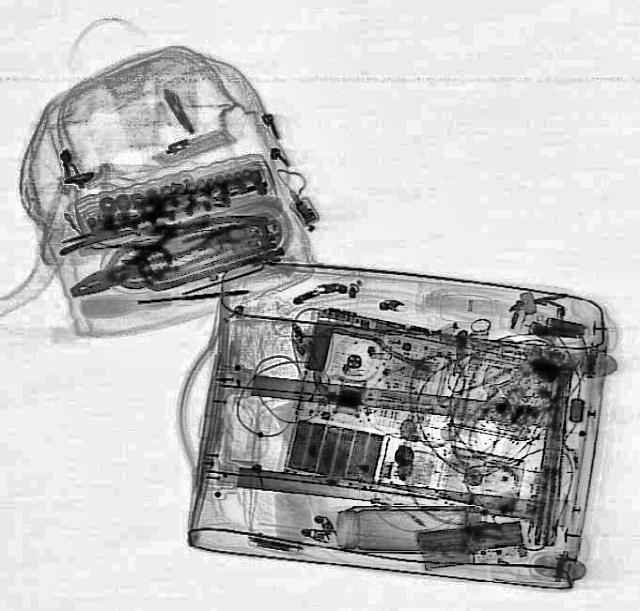Pliers: (58, 218, 224, 306)
